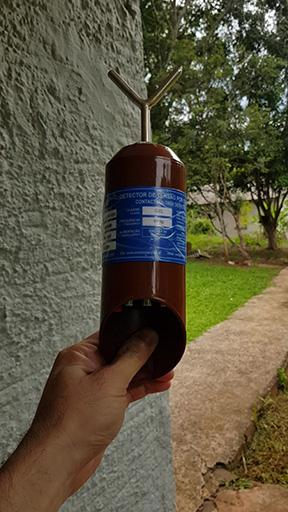Detector_Tensao_Contato: (97, 64, 188, 382)
